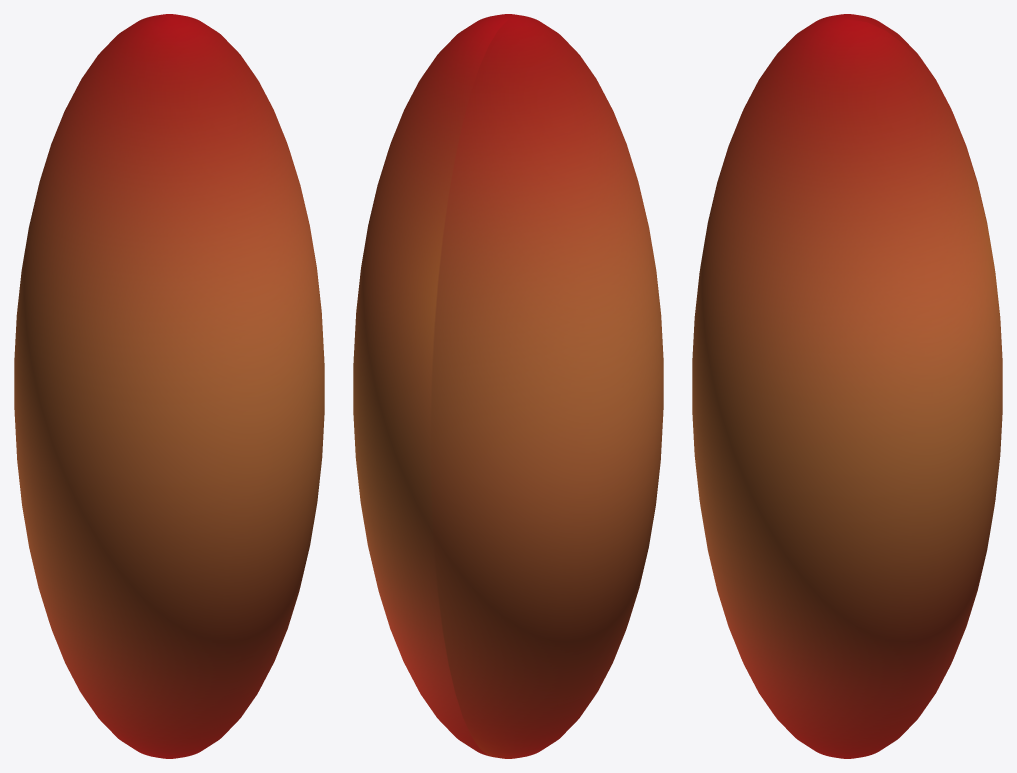
Rendered from Bullet.obj.
The picture shows the model from 3 angles, left to right: view 1: azimuth 30°, elevation 25°; view 2: azimuth 150°, elevation 25°; view 3: azimuth 270°, elevation 25°; orthographic projection.
Visible parts, largest first — view 1: Sphere001; view 2: Sphere001; view 3: Sphere001.
Part boxes in pixels (x1,y1,x2,y2): Sphere001: (14, 14, 324, 758); Sphere001: (353, 14, 663, 758); Sphere001: (692, 14, 1002, 758).
Size of the model in its own units: 19.13 by 50 by 19.17.
Materials: 1 (1 with a texture image).
